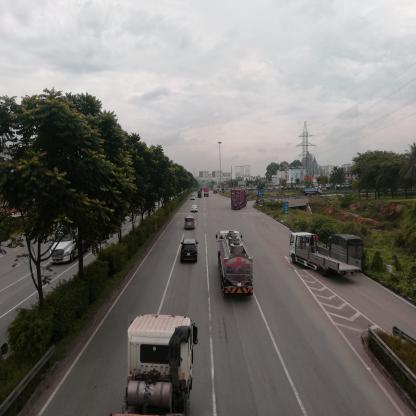car: (184, 240, 198, 266), (186, 218, 196, 231), (192, 204, 198, 213)
container: (129, 315, 205, 415), (230, 190, 248, 211)
truck: (217, 228, 254, 300), (291, 230, 330, 271), (330, 233, 362, 267), (304, 189, 323, 197)
